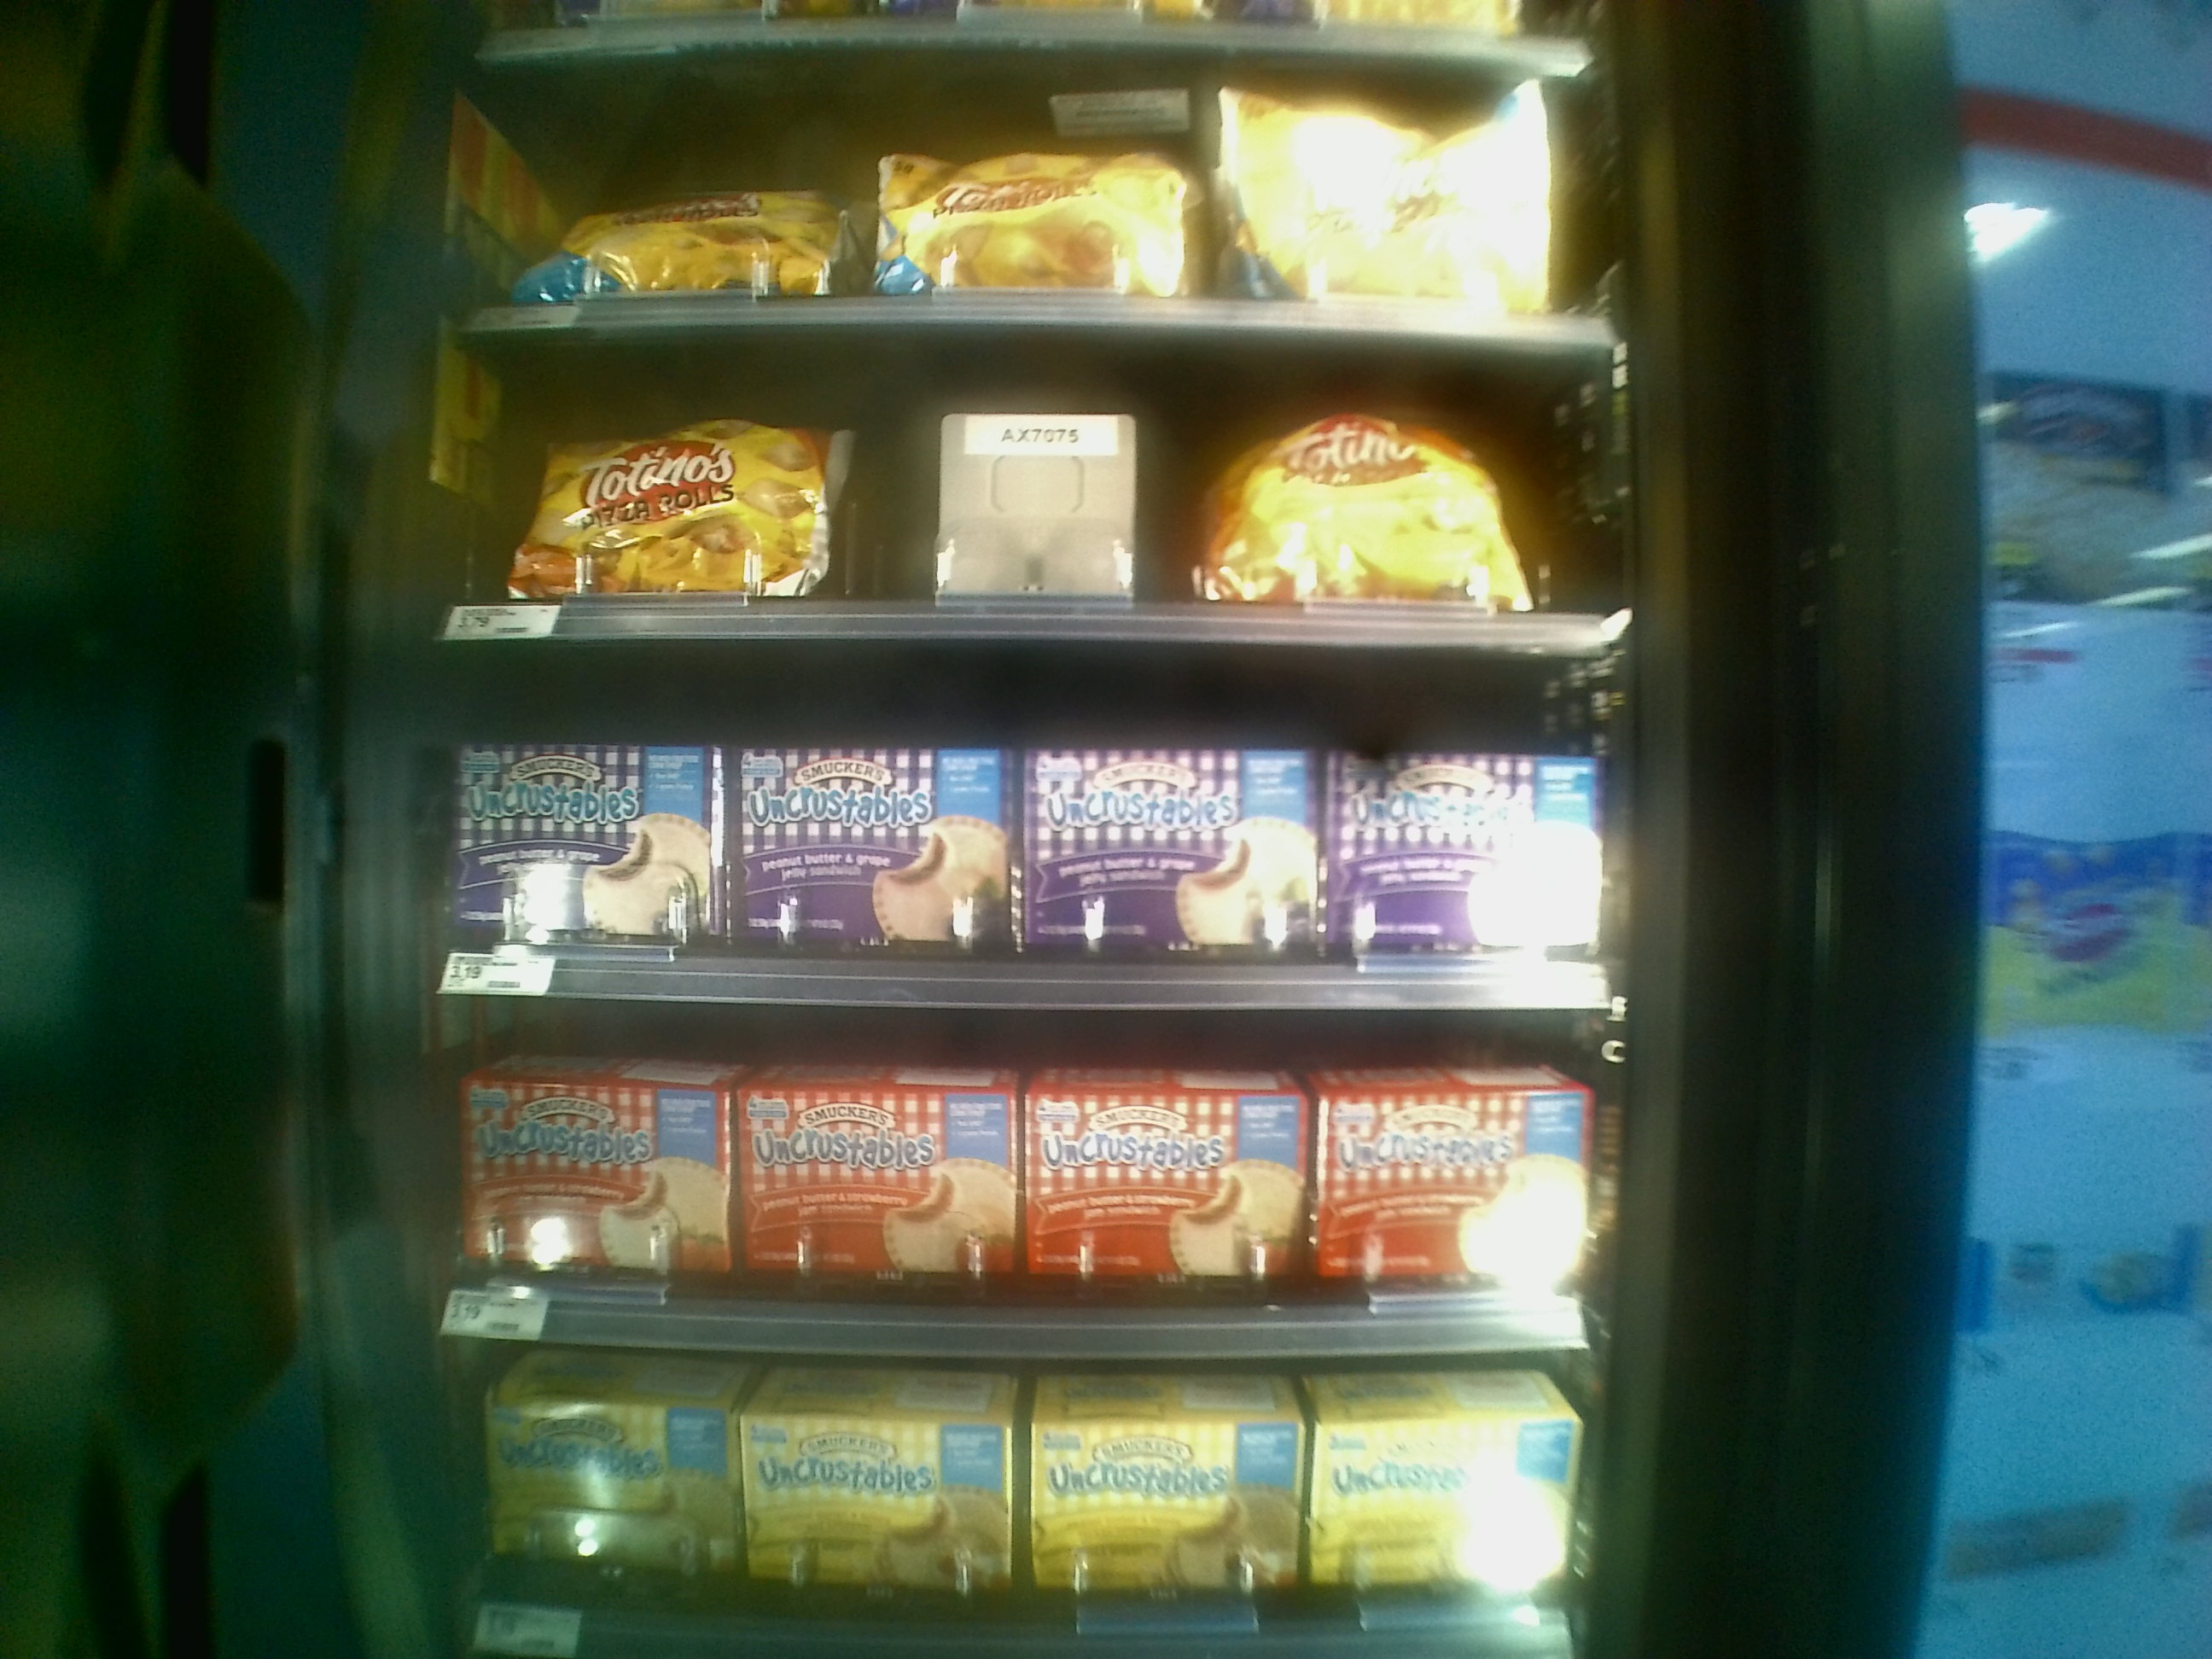shelf: (418, 650, 1627, 1021), (409, 1000, 1615, 1358), (420, 349, 1639, 664), (430, 33, 1620, 343)
